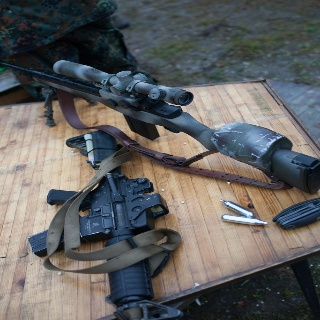rifle: (1, 56, 320, 198), (27, 127, 185, 320)
